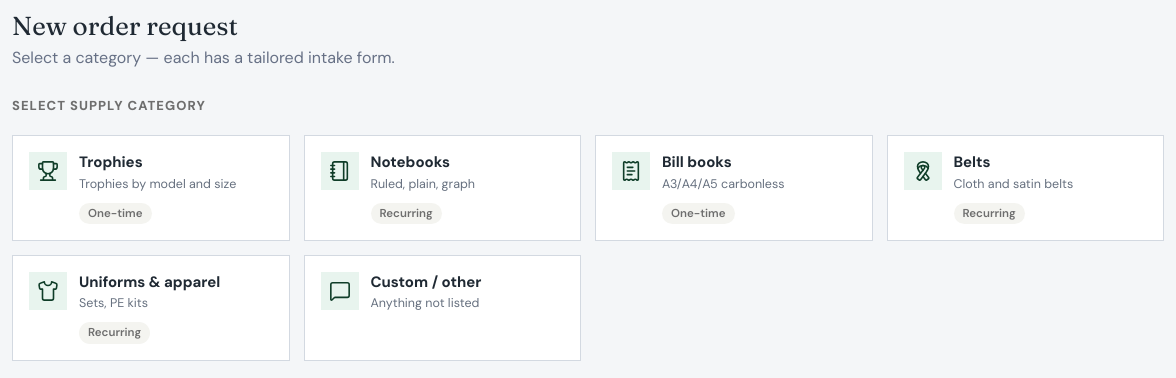
Test: SaNewOrderPanel category tiles › renders the product form for a non-notebook category
Click the button "Bill books A3/A4/A5 carbonless One-time" at (734, 188), box left=595, top=135, right=872, bottom=241
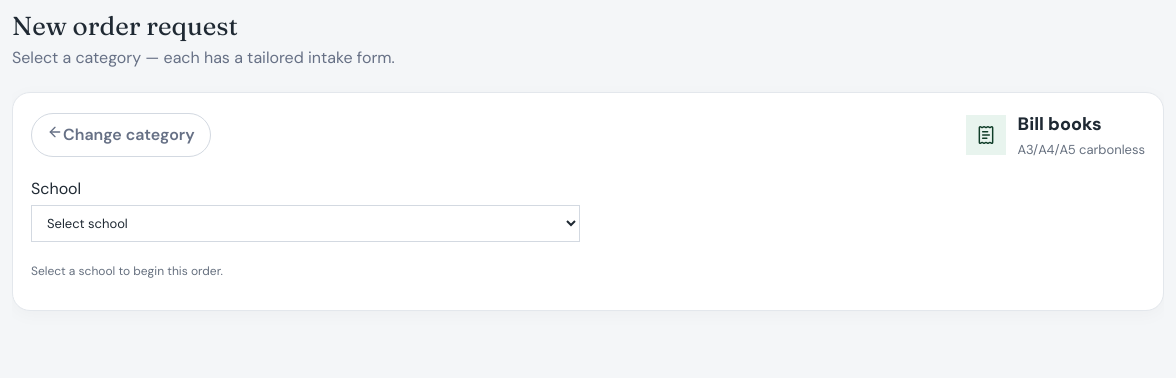
Now the text "Select a school to begin this order." is shown, box left=31, top=263, right=223, bottom=279
